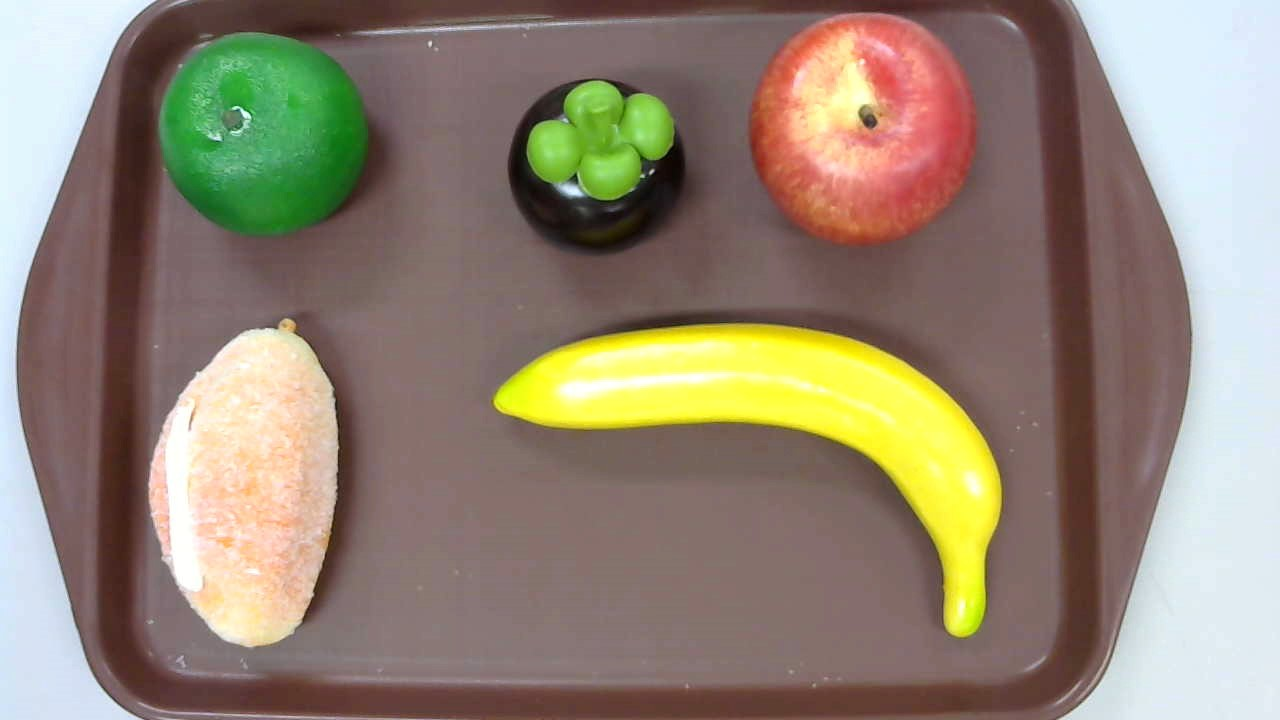banana: (492, 323, 1003, 636)
coconut: (148, 318, 339, 650)
green orange: (158, 33, 368, 237)
mangosteen: (508, 79, 686, 256)
red apple: (748, 12, 978, 248)
